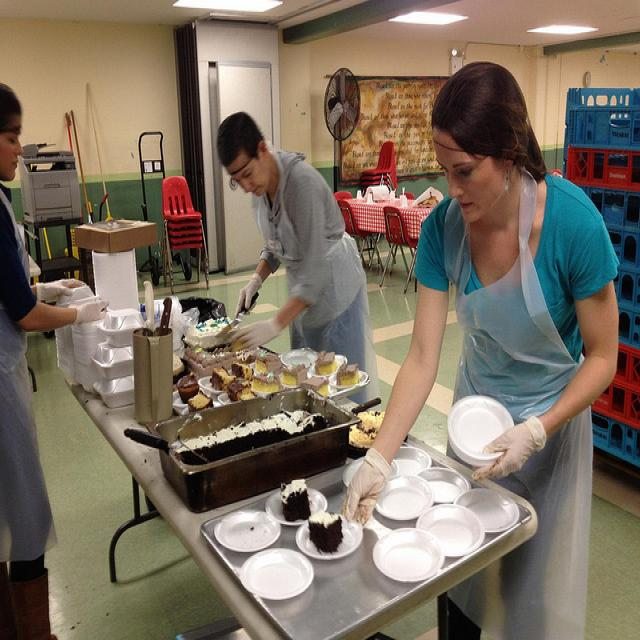chair: (380, 206, 418, 295), (163, 243, 210, 295), (163, 176, 201, 221), (361, 141, 395, 191), (166, 228, 208, 264), (361, 152, 396, 190), (362, 149, 395, 181), (337, 200, 360, 232), (164, 233, 204, 246), (166, 221, 201, 230), (334, 191, 353, 201)
dining table: (72, 384, 540, 640), (202, 442, 530, 634), (336, 185, 445, 240)
